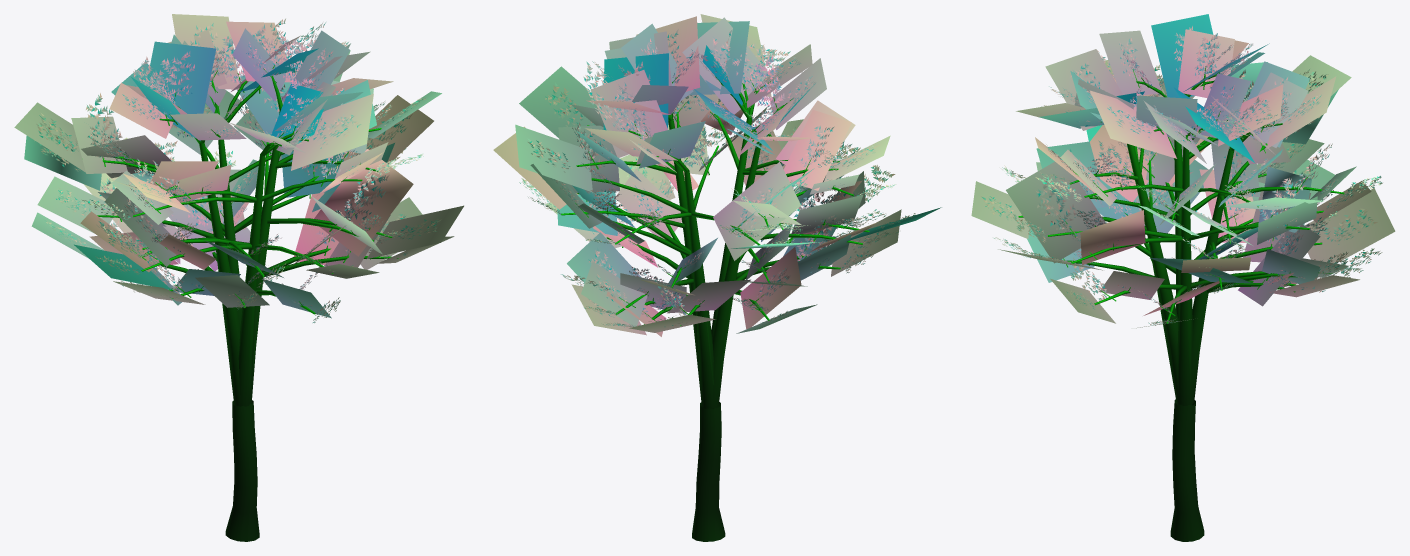
File: shade_2.glb
The picture shows the model from 3 angles, left to right: view 1: azimuth 30°, elevation 25°; view 2: azimuth 150°, elevation 25°; view 3: azimuth 270°, elevation 25°; orthographic projection.
Parts seen in each view (by area): view 1: mid, near; view 2: mid, near; view 3: mid, near.
Boxes of the visible parts, <box> form: mid: <box>14,14,463,406</box>; near: <box>34,18,441,541</box>; mid: <box>493,14,941,409</box>; near: <box>519,29,915,541</box>; mid: <box>971,14,1395,405</box>; near: <box>980,26,1382,541</box>.
Size of the model in its own units: 10.46 by 12.69 by 10.18.
